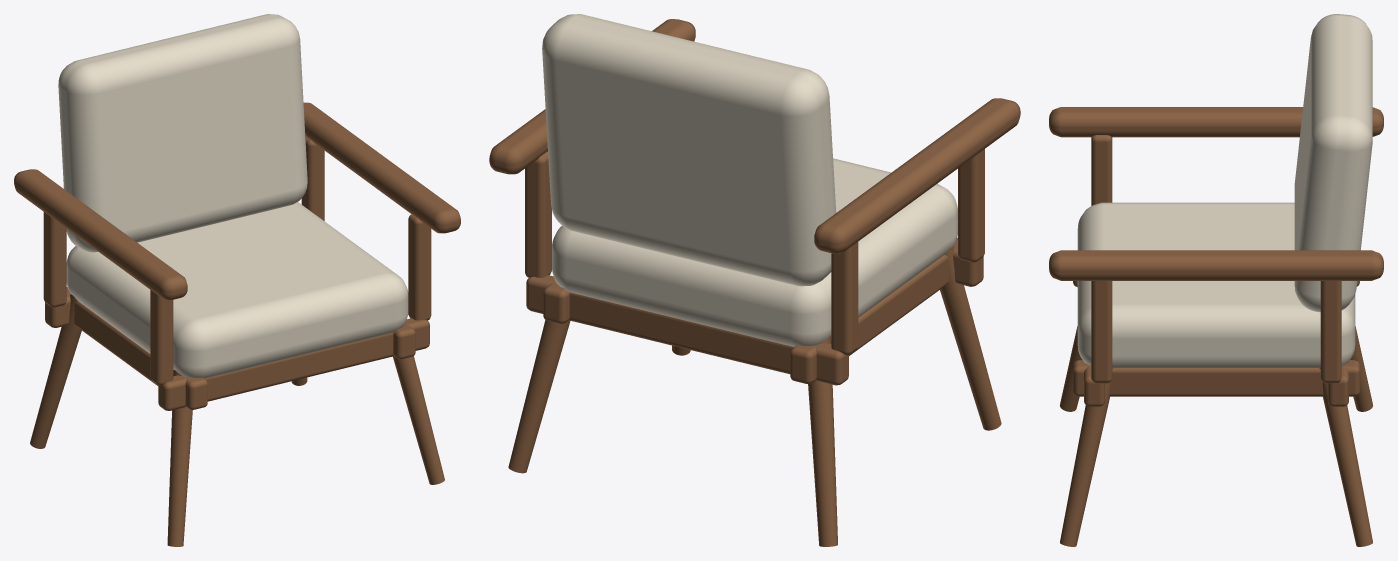
File: LUMA01.glb
3 views of the same model, side by side, from view 1: azimuth 30°, elevation 25°; view 2: azimuth 150°, elevation 25°; view 3: azimuth 270°, elevation 25° (orthographic). The views are drawn at different scales.
Parts seen in each view (by area): view 1: back_cushion, seat_cushion, arm_left, cross_rail_front, arm_right, side_rail_left, leg_left_front, leg_left_rear, leg_right_front, arm_post_right_front, arm_post_left_front, arm_post_left_rear (+3 smaller); view 2: back_cushion, seat_cushion, arm_left, cross_rail_rear, side_rail_left, leg_left_rear, leg_left_front, leg_right_rear, arm_post_right_rear, arm_right, arm_post_left_rear, arm_post_left_front (+2 smaller); view 3: seat_cushion, back_cushion, arm_right, arm_left, side_rail_right, leg_right_front, leg_right_rear, arm_post_right_front, arm_post_right_rear, arm_post_left_front, leg_left_front, leg_left_rear (+2 smaller).
Part boxes in pixels (x1,y1,x2,y2): back_cushion: (58, 14, 307, 252); seat_cushion: (66, 202, 408, 378); arm_left: (14, 169, 187, 299); cross_rail_front: (158, 318, 429, 410); arm_right: (303, 102, 460, 233); side_rail_left: (66, 287, 207, 409); leg_left_front: (167, 370, 192, 546); leg_left_rear: (30, 294, 81, 448); leg_right_front: (393, 356, 444, 484); arm_post_right_front: (408, 214, 431, 320); arm_post_left_front: (150, 290, 173, 385); arm_post_left_rear: (43, 212, 66, 307); back_cushion: (542, 14, 836, 286); seat_cushion: (552, 158, 957, 346); arm_left: (814, 98, 1020, 253); cross_rail_rear: (526, 275, 848, 385); side_rail_left: (790, 238, 957, 383); leg_left_rear: (808, 336, 837, 546); leg_left_front: (940, 246, 1001, 430); leg_right_rear: (508, 320, 570, 473); arm_post_right_rear: (525, 151, 551, 277); arm_right: (489, 19, 695, 174); arm_post_left_rear: (831, 242, 858, 355); arm_post_left_front: (958, 149, 984, 262); seat_cushion: (1077, 202, 1355, 367); back_cushion: (1294, 14, 1372, 312); arm_right: (1049, 250, 1383, 280); arm_left: (1049, 107, 1383, 137); side_rail_right: (1073, 360, 1359, 396); leg_right_front: (1060, 367, 1113, 546); leg_right_rear: (1319, 367, 1372, 546); arm_post_right_front: (1091, 281, 1112, 383); arm_post_right_rear: (1320, 281, 1341, 383); arm_post_left_front: (1091, 135, 1112, 205); leg_left_front: (1060, 326, 1082, 411); leg_left_rear: (1350, 326, 1372, 411).
Bounding box in the file's own units: 0.78 × 0.9496 × 0.7.
